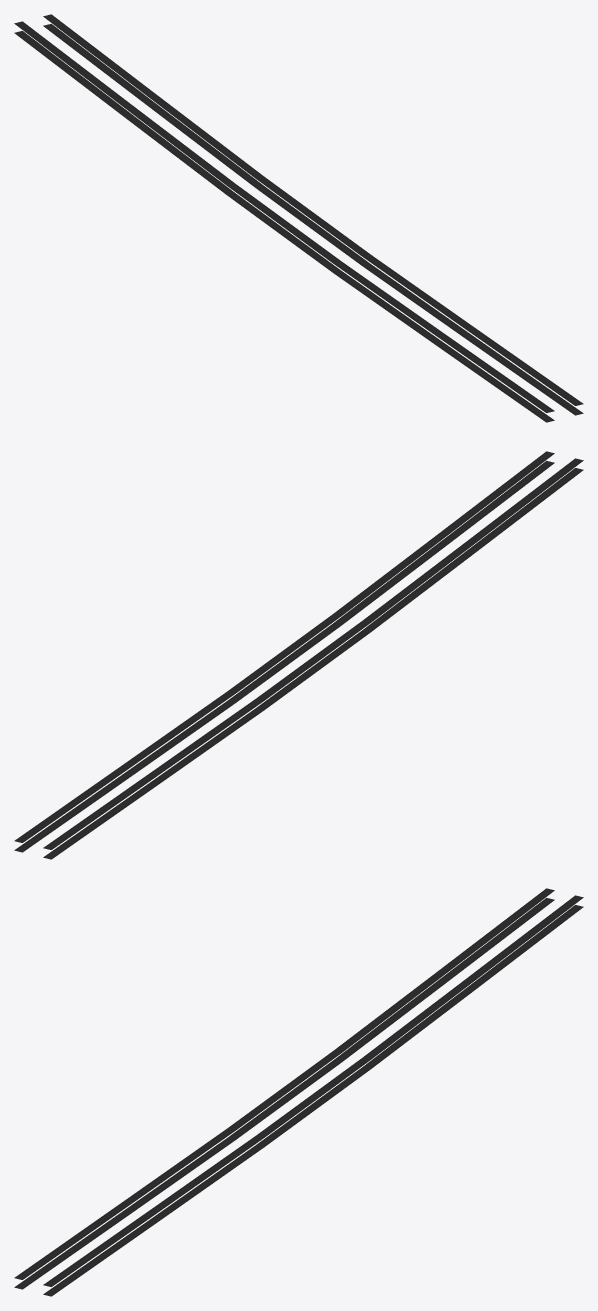
Rendered from Power_pole_cable30M.fbx.
3 renders of one model, top to bottom at view 1: azimuth 30°, elevation 25°; view 2: azimuth 150°, elevation 25°; view 3: azimuth 330°, elevation 25°, orthographic.
Visible parts, largest first — view 1: polySurface924; view 2: polySurface924; view 3: polySurface924.
Boxes of the visible parts, bbox=[...] form: polySurface924: bbox=[14, 14, 583, 422]; polySurface924: bbox=[14, 451, 583, 859]; polySurface924: bbox=[14, 888, 583, 1296].
Size of the model in its own units: 1.22 by 0.4957 by 30.
Materials: 1 (1 with a texture image).
